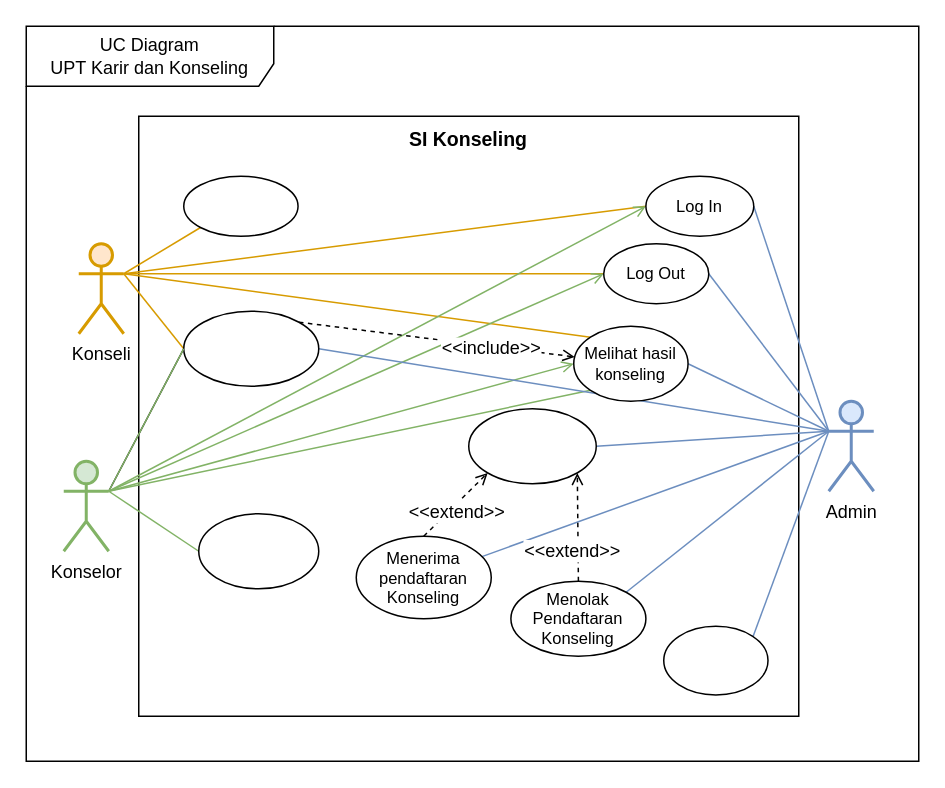
This 945x788 diagram has some shape labels left out. The box of each missing label's shape, as (x1, y1, x2, y2) in pixels:
Melihat pendaftaran konseling: (467, 407, 596, 484)
Melihat riwayat konseling: (182, 310, 319, 386)
Mendaftar Konseling: (182, 175, 298, 236)
Mengelola akun user: (662, 625, 768, 695)
Menginput hasil konseling: (197, 512, 319, 589)
